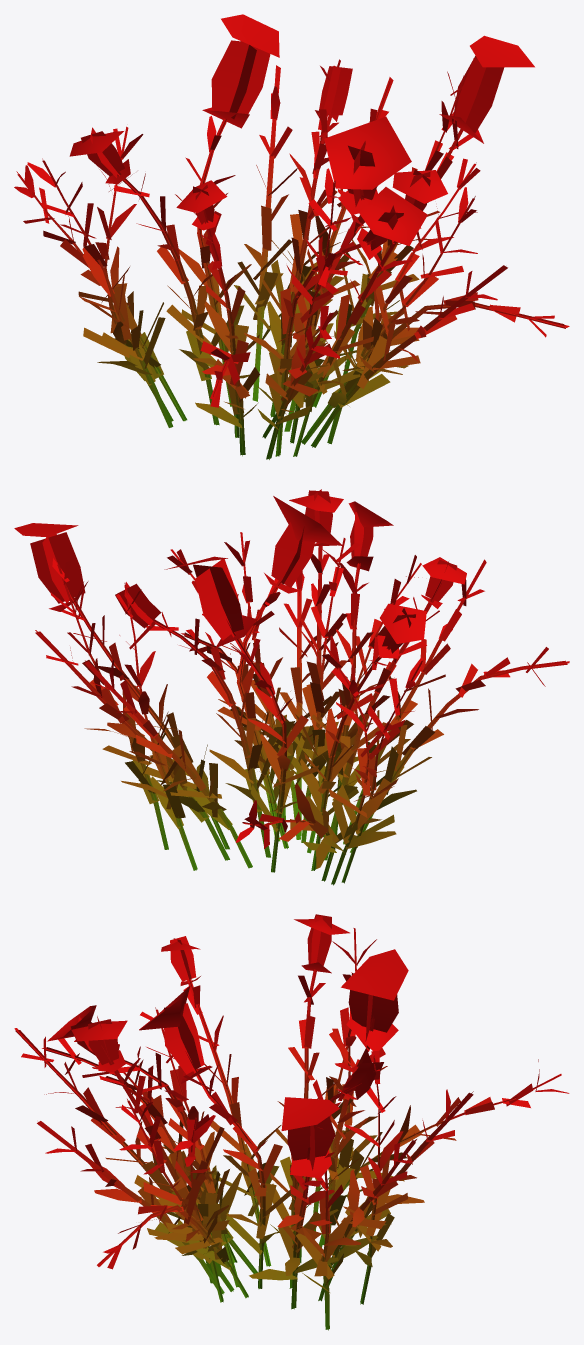
The model's file is Var7_LOD3.fbx.
3 views of the same model, one above another, from view 1: azimuth 30°, elevation 25°; view 2: azimuth 150°, elevation 25°; view 3: azimuth 270°, elevation 25° (orthographic). The views are drawn at different scales.
Visible parts, largest first — view 1: _haie_Var7_LOD3; view 2: _haie_Var7_LOD3; view 3: _haie_Var7_LOD3.
Boxes of the visible parts, bbox=[...] form: _haie_Var7_LOD3: bbox=[14, 14, 569, 459]; _haie_Var7_LOD3: bbox=[14, 489, 569, 885]; _haie_Var7_LOD3: bbox=[14, 914, 569, 1330].
Bounding box in the file's own units: 37.44 × 28.26 × 41.29.
